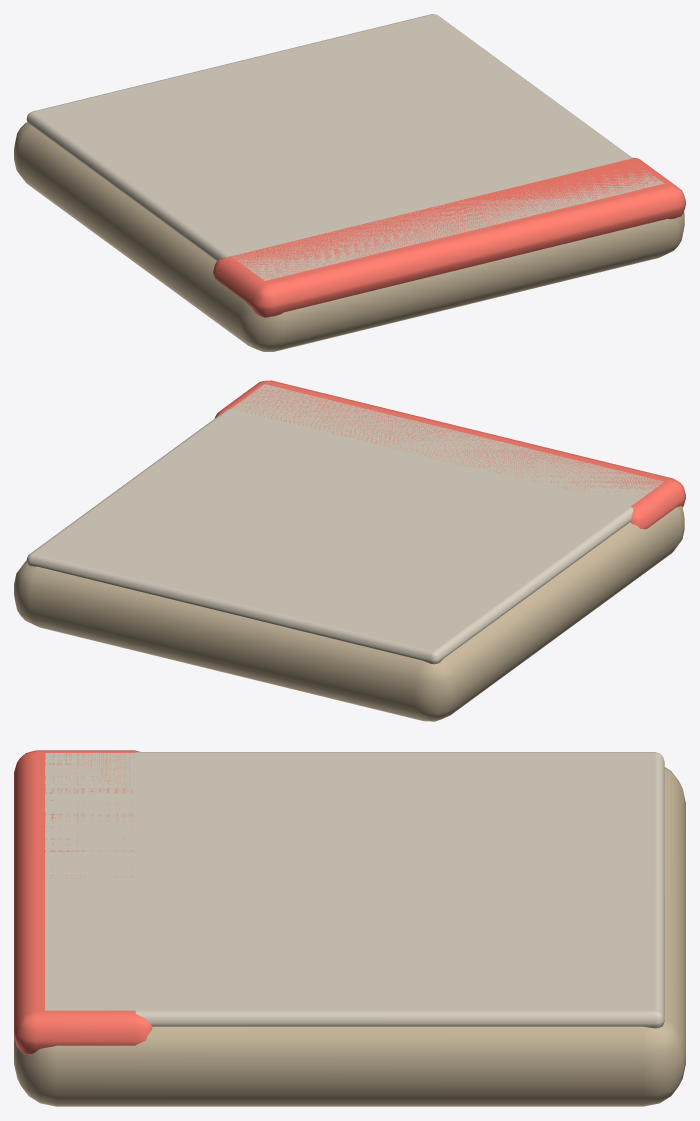
Rendered from tile.glb.
3 views of the same model, one above another, from view 1: azimuth 30°, elevation 25°; view 2: azimuth 150°, elevation 25°; view 3: azimuth 270°, elevation 25° (orthographic). The views are drawn at different scales.
Parts seen in each view (by area): view 1: Cube; view 2: Cube; view 3: Cube.
Part boxes in pixels (x1,y1,x2,y2): Cube: (14,14,685,351); Cube: (14,380,685,721); Cube: (14,750,685,1106).
Size of the model in its own units: 0.94 by 0.15 by 0.94.
